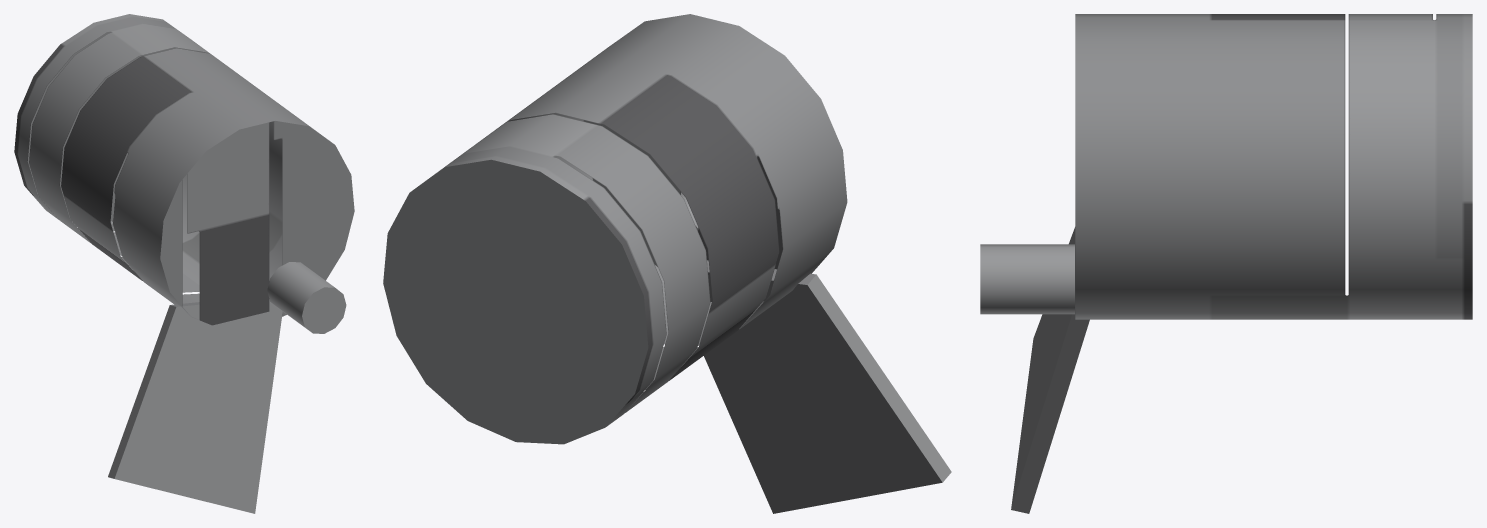
The picture shows the model from 3 angles, left to right: view 1: azimuth 30°, elevation 25°; view 2: azimuth 150°, elevation 25°; view 3: azimuth 270°, elevation 25°; orthographic projection. The views are drawn at different scales.
Bounding box in the file's own units: 0.4145 × 0.5705 × 0.5078.
